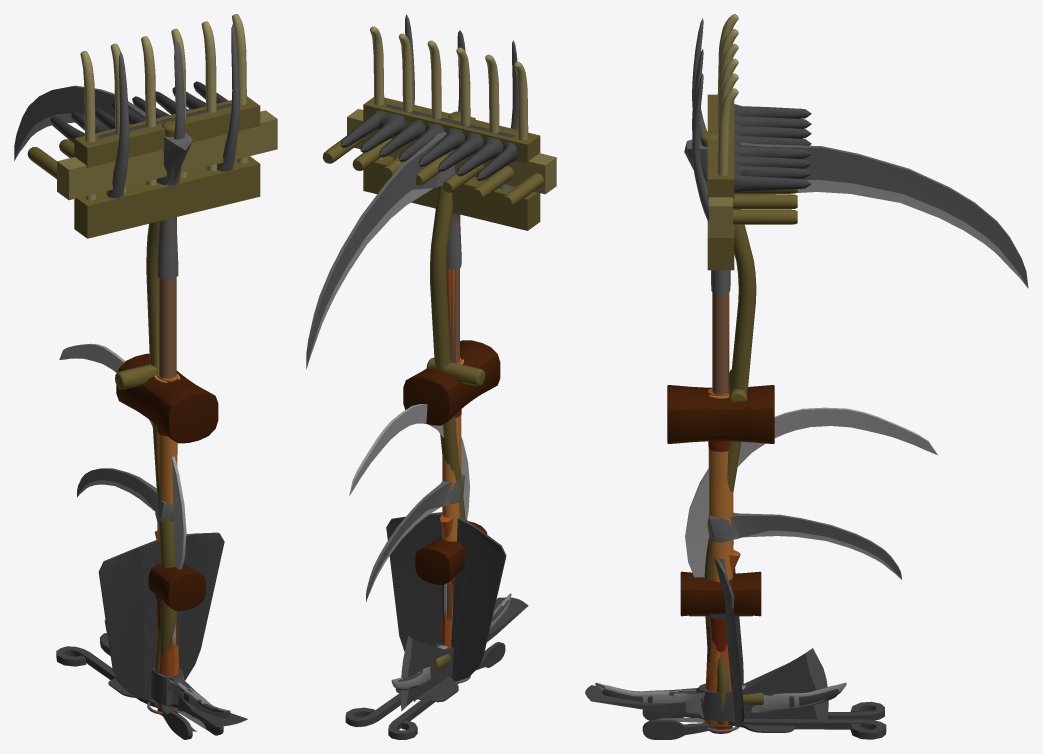
Rendered from Tools.fbx.
3 renders of one model, left to right at view 1: azimuth 30°, elevation 25°; view 2: azimuth 150°, elevation 25°; view 3: azimuth 270°, elevation 25°, orthographic. The views are drawn at different scales.
Parts seen in each view (by area): view 1: Pitchfork01A, Shovel01A, Scythe01A, Rake01A, Pitchfork02A, SledgeMaul02D, Rake02A, Sickle02A, Hammer01D, Sickle01A, TongsProp, Mattock01A (+4 smaller); view 2: Pitchfork01A, Shovel01A, Scythe01A, Rake02A, Rake01A, SledgeMaul02D, Sickle02A, Axe01A, Sickle01A, Hammer01D, Pitchfork02A, TongsProp (+5 smaller); view 3: Scythe01A, Rake02A, SledgeMaul02D, Pitchfork01A, Sickle02A, Axe01A, Pitchfork02A, Sickle01A, Hammer01D, Rake01A, TongsProp, SledgeMaul01A (+5 smaller).
Boxes of the visible parts, box(x1,y1,x2,y2) form: Pitchfork01A: box(74, 14, 260, 378); Shovel01A: box(98, 532, 224, 700); Scythe01A: box(14, 85, 192, 690); Rake01A: box(27, 109, 277, 200); Pitchfork02A: box(106, 24, 239, 377); SledgeMaul02D: box(116, 353, 218, 443); Rake02A: box(50, 81, 231, 143); Sickle02A: box(59, 343, 186, 649); Hammer01D: box(148, 563, 205, 715); Sickle01A: box(77, 468, 173, 523); TongsProp: box(56, 645, 223, 739); Mattock01A: box(150, 373, 247, 727); Pitchfork01A: box(363, 26, 540, 363); Shovel01A: box(386, 512, 506, 681); Scythe01A: box(306, 111, 485, 670); Rake02A: box(340, 104, 517, 181); Rake01A: box(322, 109, 556, 362); SledgeMaul02D: box(403, 340, 500, 425); Sickle02A: box(349, 404, 469, 621); Axe01A: box(401, 358, 461, 711); Sickle01A: box(366, 474, 464, 601); Hammer01D: box(415, 521, 487, 684); Pitchfork02A: box(393, 14, 517, 269); TongsProp: box(353, 642, 505, 739); Scythe01A: box(684, 131, 1028, 704); Rake02A: box(734, 104, 811, 193); SledgeMaul02D: box(667, 385, 774, 451); Pitchfork01A: box(707, 14, 738, 270); Sickle02A: box(685, 407, 937, 662); Axe01A: box(698, 389, 828, 727); Pitchfork02A: box(692, 18, 730, 395); Sickle01A: box(707, 512, 901, 579); Hammer01D: box(680, 571, 761, 733); Rake01A: box(709, 189, 797, 392); TongsProp: box(642, 701, 884, 739); SledgeMaul01A: box(708, 389, 733, 582).
Bounding box in the file's own units: 0.6096 × 1.91 × 1.11.
